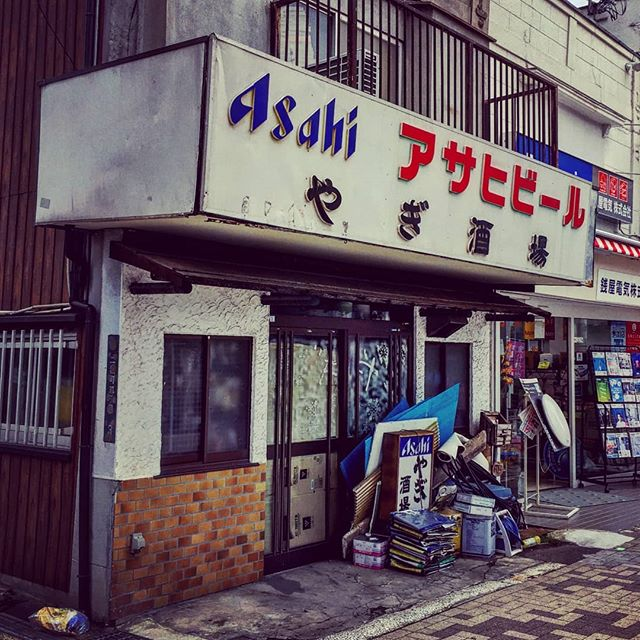building: (16, 1, 560, 610)
sign: (199, 56, 605, 279)
trash: (317, 392, 541, 587)
window: (159, 327, 256, 472)
